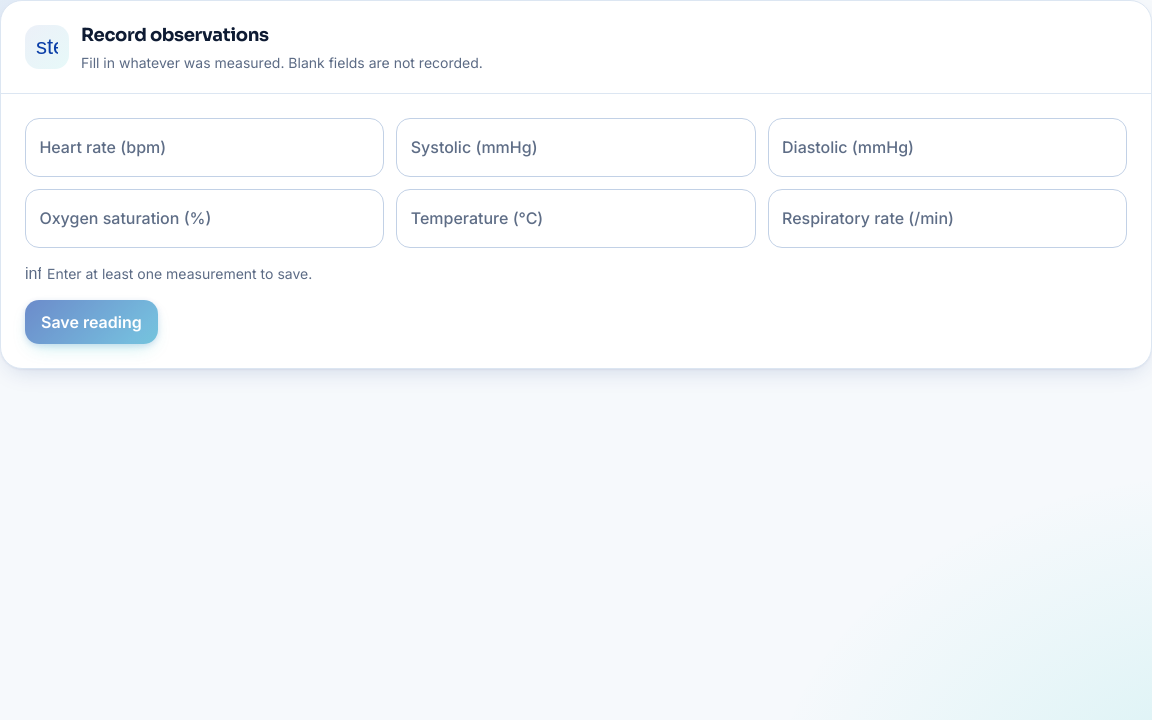
Test case: recording observations › enables saving once anything is entered
The width and height of the screenshot is (1152, 720).
Type "72" into the number field labelled "Heart rate (bpm)" at (205, 147), box [25,118,384,177]
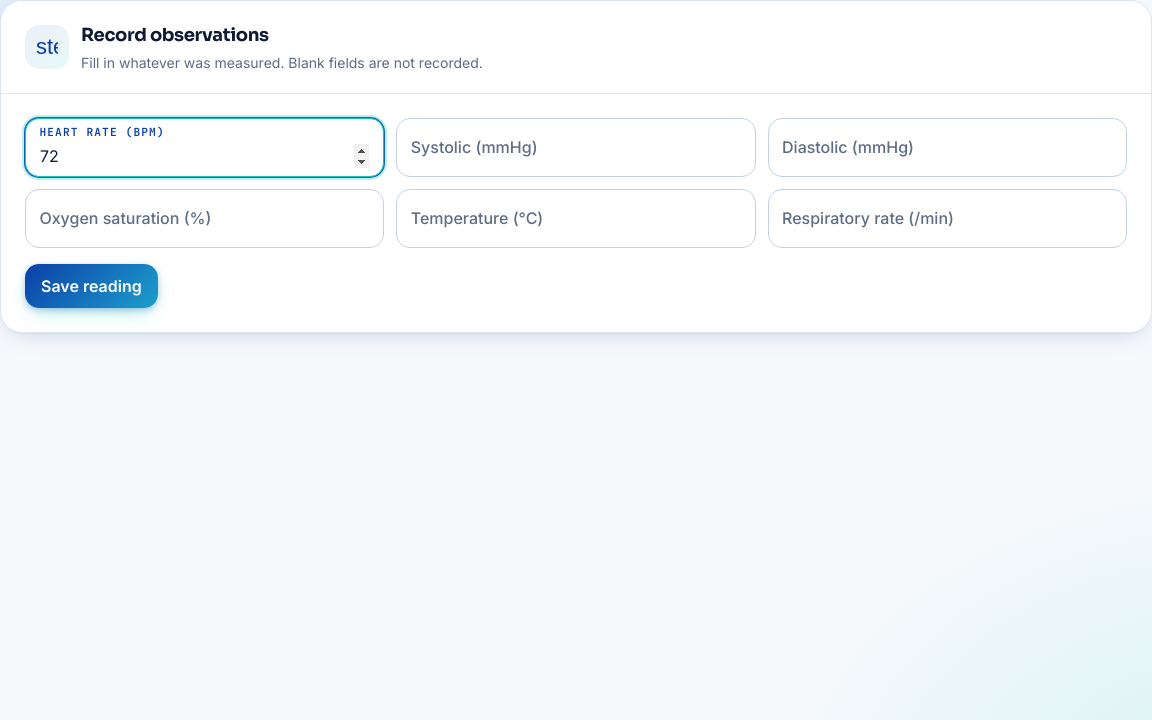
Expected: the button "Save reading" is enabled, [25,264,158,308]
